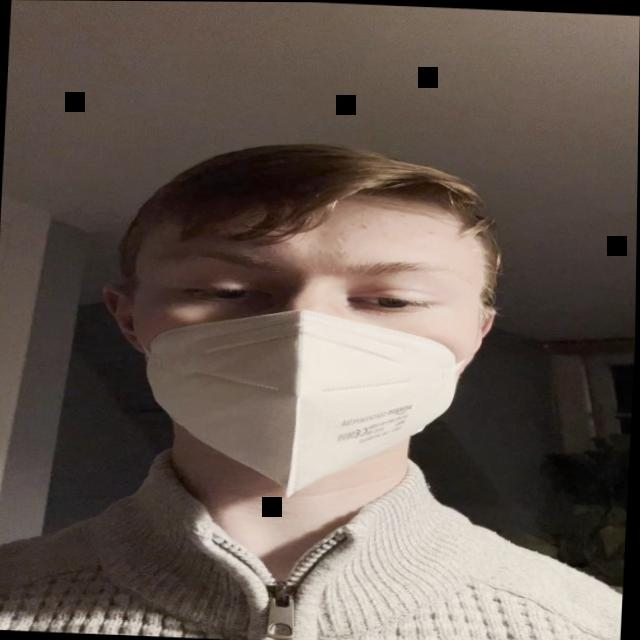Mask: (112, 150, 504, 501)
